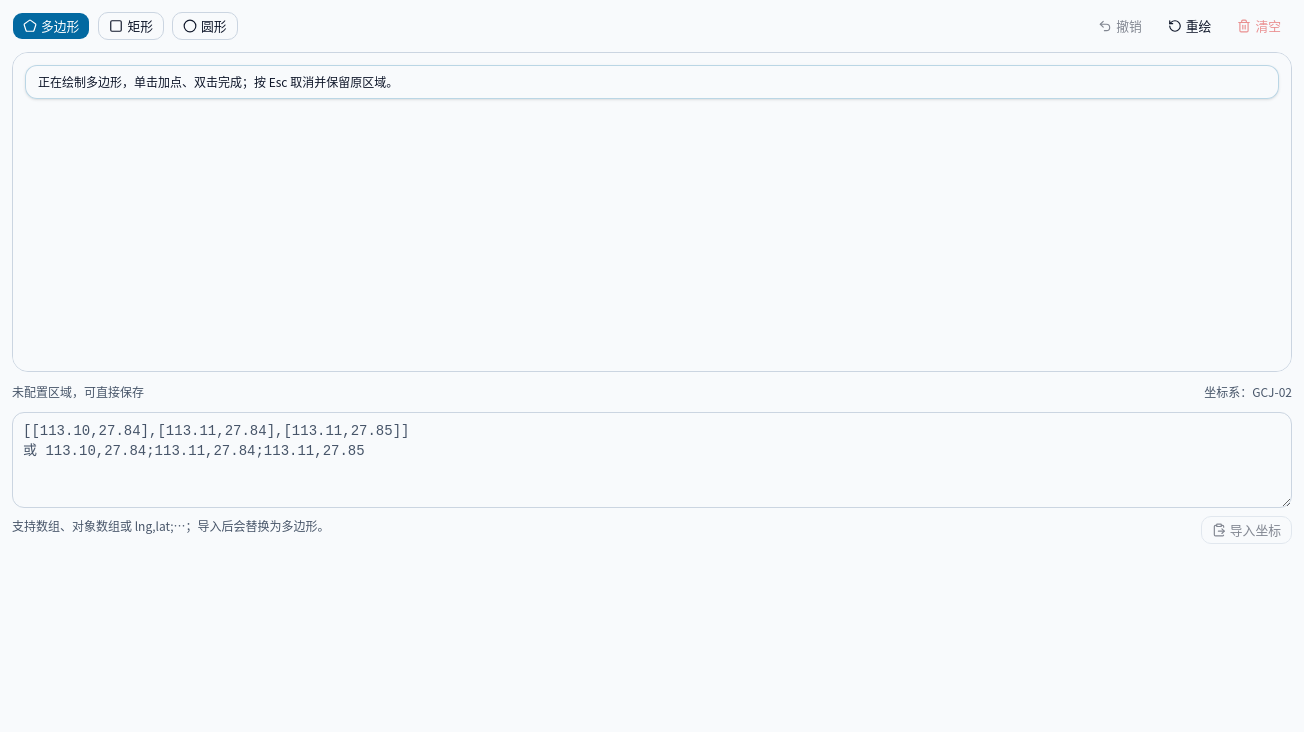
it: AMapGeometryEditor drawing initialization › switches from the default polygon to rectangle and circle drawing
Click the button "矩形": (131, 26) [98,12,164,40]
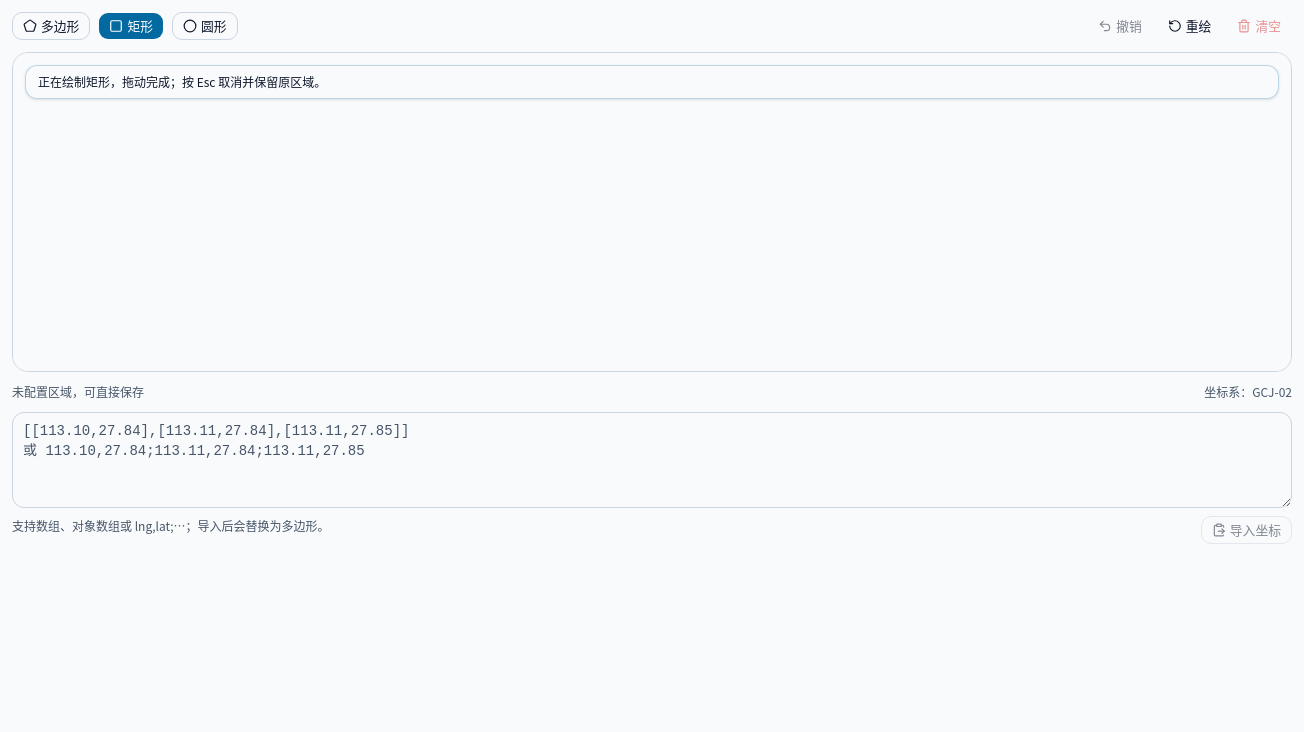
Expected: the text "正在绘制矩形" is shown, [38,73,326,90]
Click the button "圆形": (205, 26) [172,12,238,40]
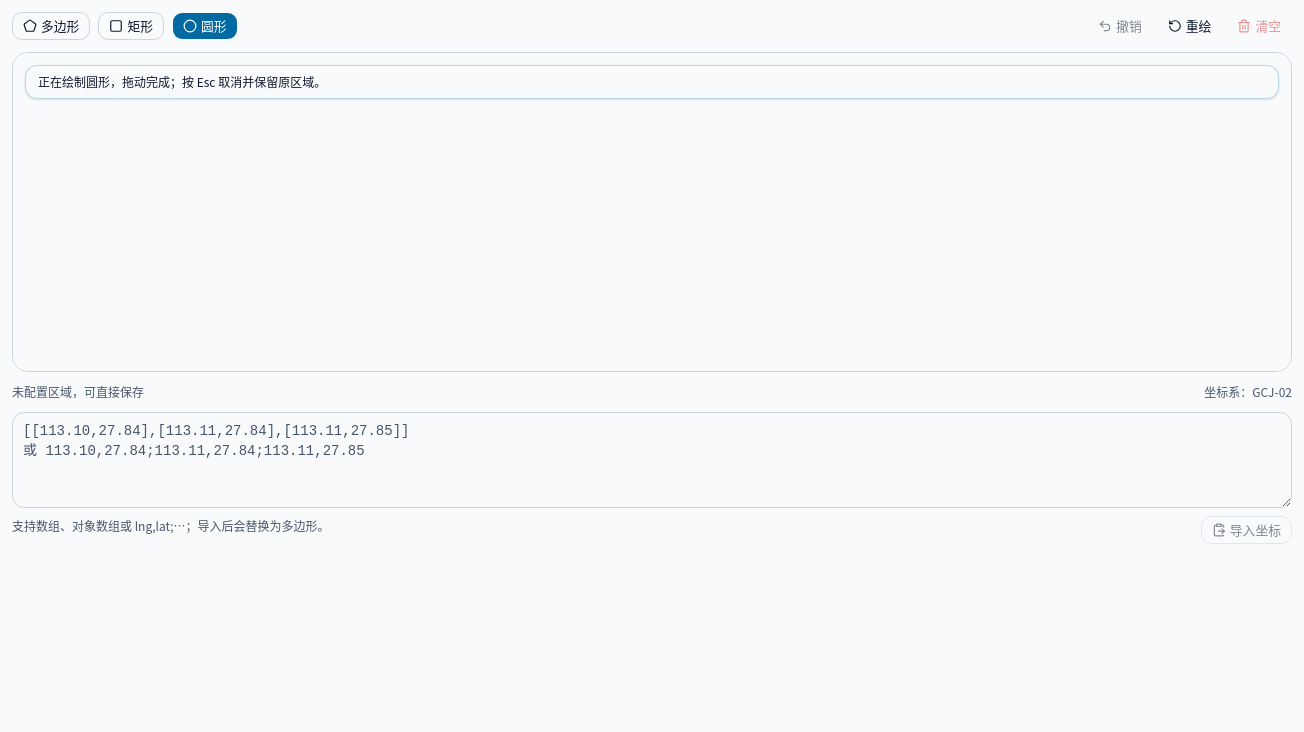
Expected: the text "正在绘制圆形" is shown, [38,73,326,90]
